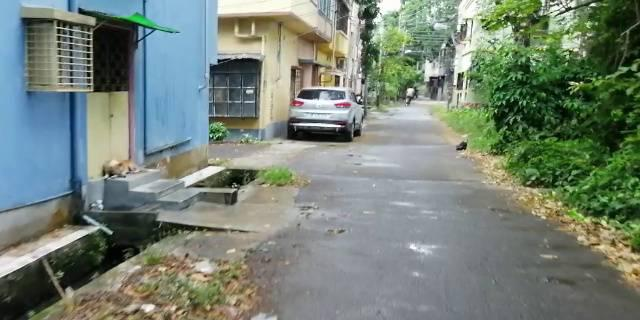Car: (288, 84, 367, 143)
